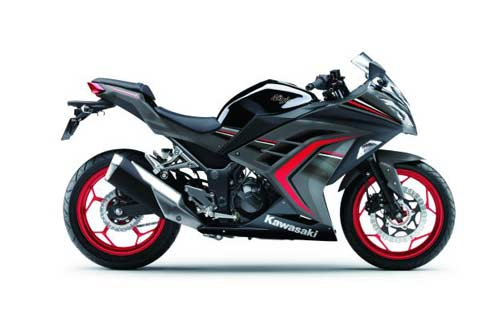motorcycle: (57, 54, 457, 270)
